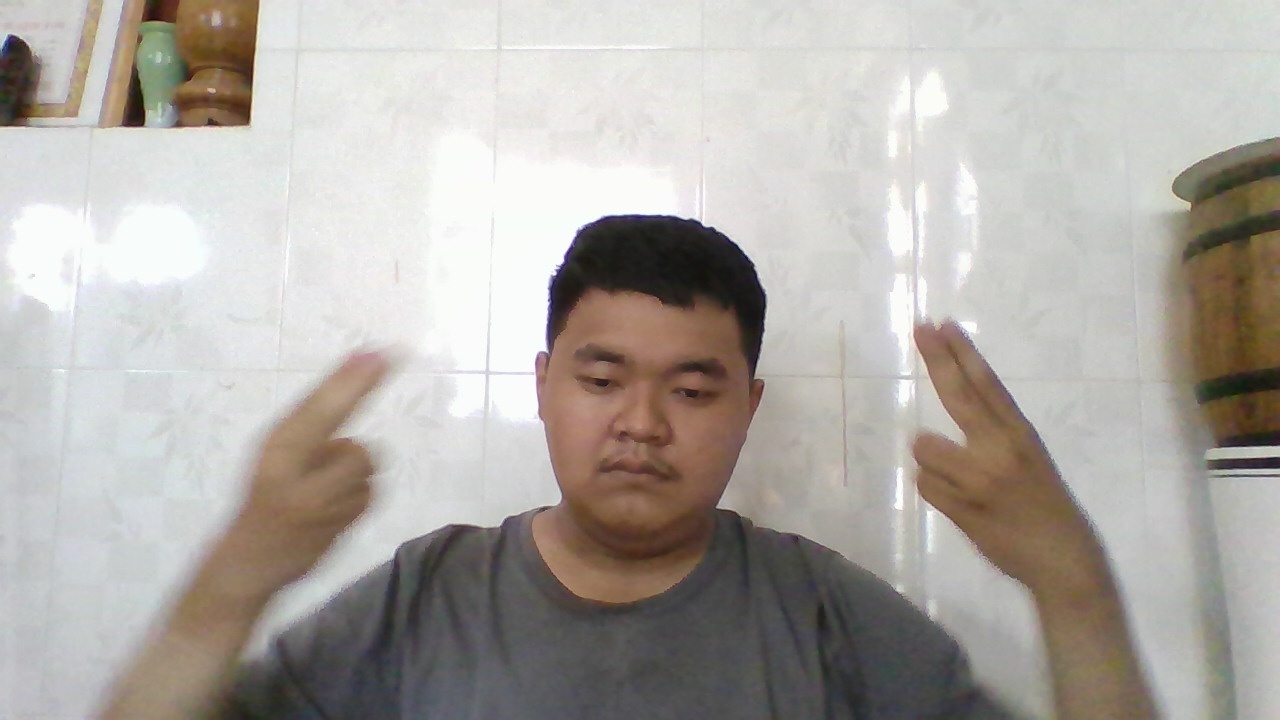U: (906, 311, 1091, 589), (235, 343, 393, 588)
